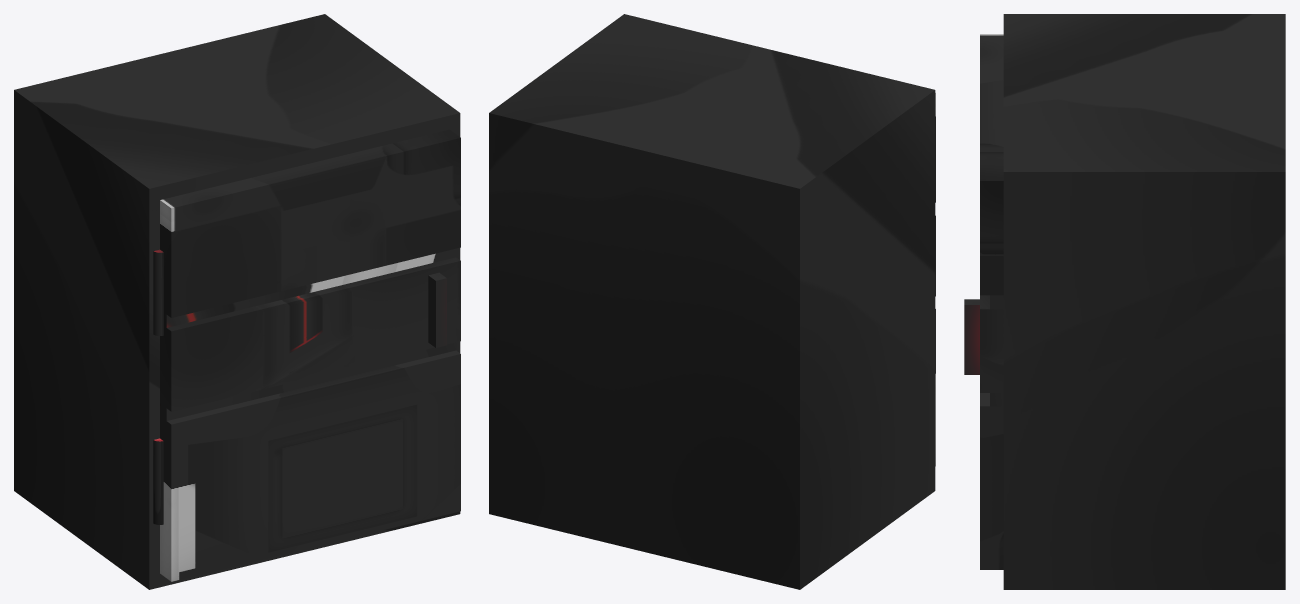
The model's file is Chest2.FBX.
3 renders of one model, left to right at view 1: azimuth 30°, elevation 25°; view 2: azimuth 150°, elevation 25°; view 3: azimuth 270°, elevation 25°, orthographic. The views are drawn at different scales.
Parts seen in each view (by area): view 1: chestdoor2, chestbox2; view 2: chestbox2; view 3: chestbox2, chestdoor2.
Boxes of the visible parts, left/top/right/bottom form: chestdoor2: left=153, top=129, right=460, bottom=581; chestbox2: left=14, top=14, right=460, bottom=589; chestbox2: left=489, top=14, right=935, bottom=589; chestbox2: left=1003, top=14, right=1285, bottom=589; chestdoor2: left=964, top=34, right=1003, bottom=569.
Bounding box in the file's own units: 19.21 × 23.68 × 16.5.
